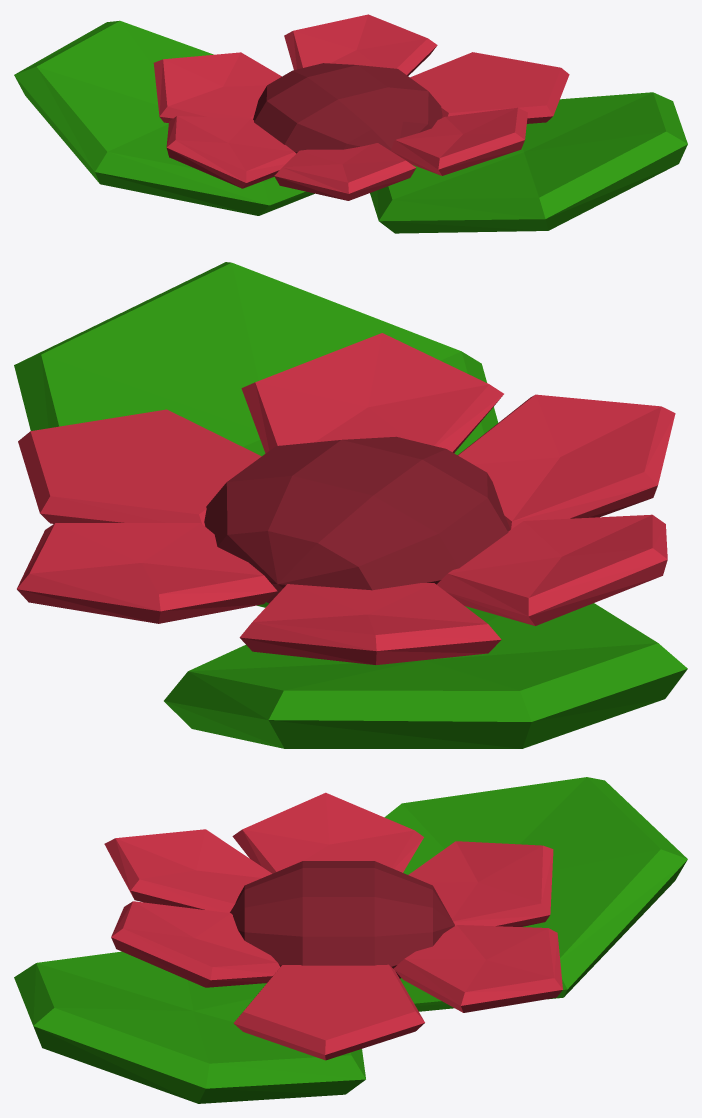
File: groundFlower.fbx
3 views of the same model, one above another, from view 1: azimuth 30°, elevation 25°; view 2: azimuth 150°, elevation 25°; view 3: azimuth 270°, elevation 25° (orthographic). The views are drawn at different scales.
Parts seen in each view (by area): view 1: petal_3, petal, bud, petal_2, petal_2_2, petal_5, petal_1, petal_3_2, petal_4; view 2: petal, petal_3, bud, petal_2, petal_4, petal_3_2, petal_1, petal_5, petal_2_2; view 3: petal_3, petal, bud, petal_2, petal_1, petal_2_2, petal_3_2, petal_5, petal_4.
Boxes of the visible parts, x1,y1,x2,y2 form: petal_3: (370,92,687,233); petal: (14,20,314,215); bud: (253,63,442,153); petal_2: (410,52,569,123); petal_2_2: (153,52,281,123); petal_5: (166,116,296,188); petal_1: (284,14,437,75); petal_3_2: (391,107,527,175); petal_4: (274,143,415,200); petal: (164,603,687,748); petal_3: (14,262,498,607); bud: (204,436,510,603); petal_2: (18,409,261,526); petal_4: (457,394,675,529); petal_3_2: (241,333,503,453); petal_1: (17,523,277,623); petal_5: (436,514,667,625); petal_2_2: (239,583,501,664); petal_3: (14,951,365,1103); petal: (384,777,687,1011); bud: (230,861,454,978); petal_2: (233,964,424,1060); petal_1: (393,925,562,1012); petal_2_2: (408,841,553,926); petal_3_2: (111,901,280,987); petal_5: (232,792,423,873); petal_4: (104,829,271,912).
Size of the model in its own units: 42.87 by 9.26 by 42.57.
